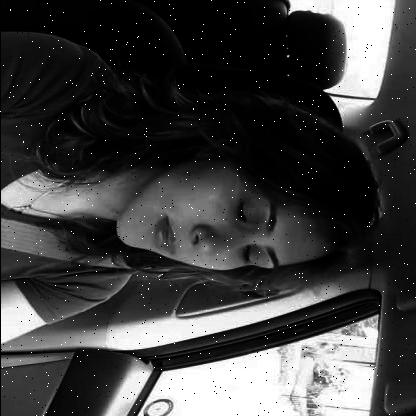seatbelt: (0, 109, 400, 300)
